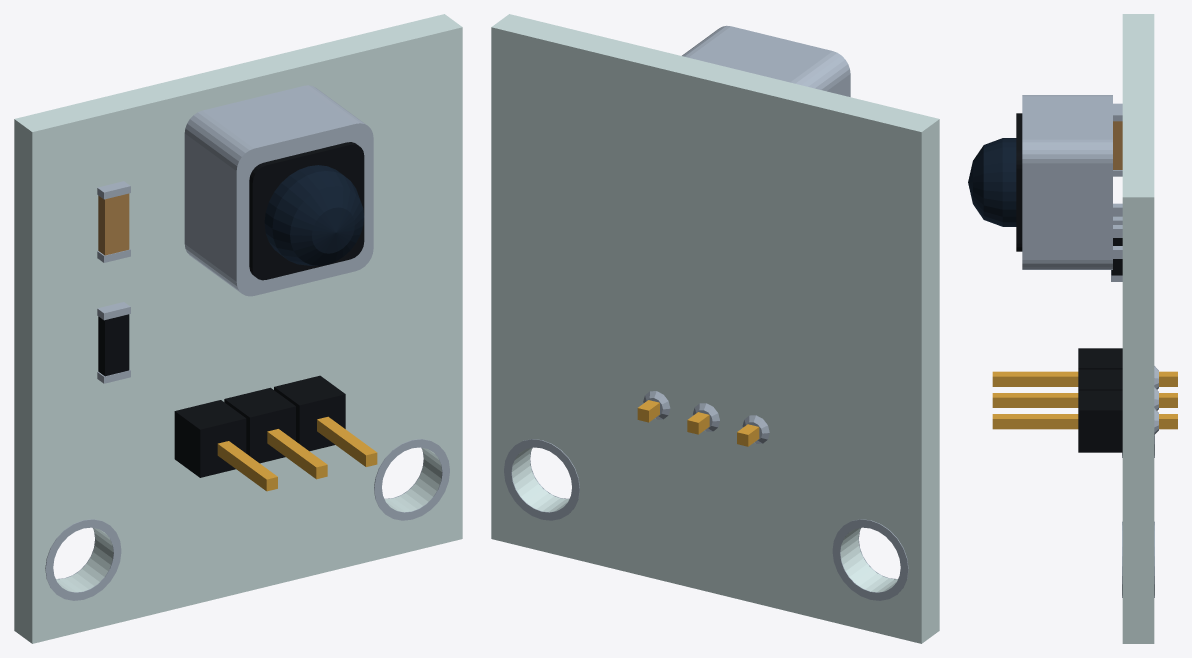
Rendered from ir_receiver_38khz.obj.
3 renders of one model, left to right at view 1: azimuth 30°, elevation 25°; view 2: azimuth 150°, elevation 25°; view 3: azimuth 270°, elevation 25°, orthographic. The views are drawn at different scales.
Visible parts, largest first — view 1: ir_receiver_38khz; view 2: ir_receiver_38khz; view 3: ir_receiver_38khz.
Boxes of the visible parts, x1,y1,x2,y2 form: ir_receiver_38khz: (14,14,462,643); ir_receiver_38khz: (491,14,939,643); ir_receiver_38khz: (968,14,1177,643).
Size of the model in its own units: 1.76 by 2 by 0.852.
